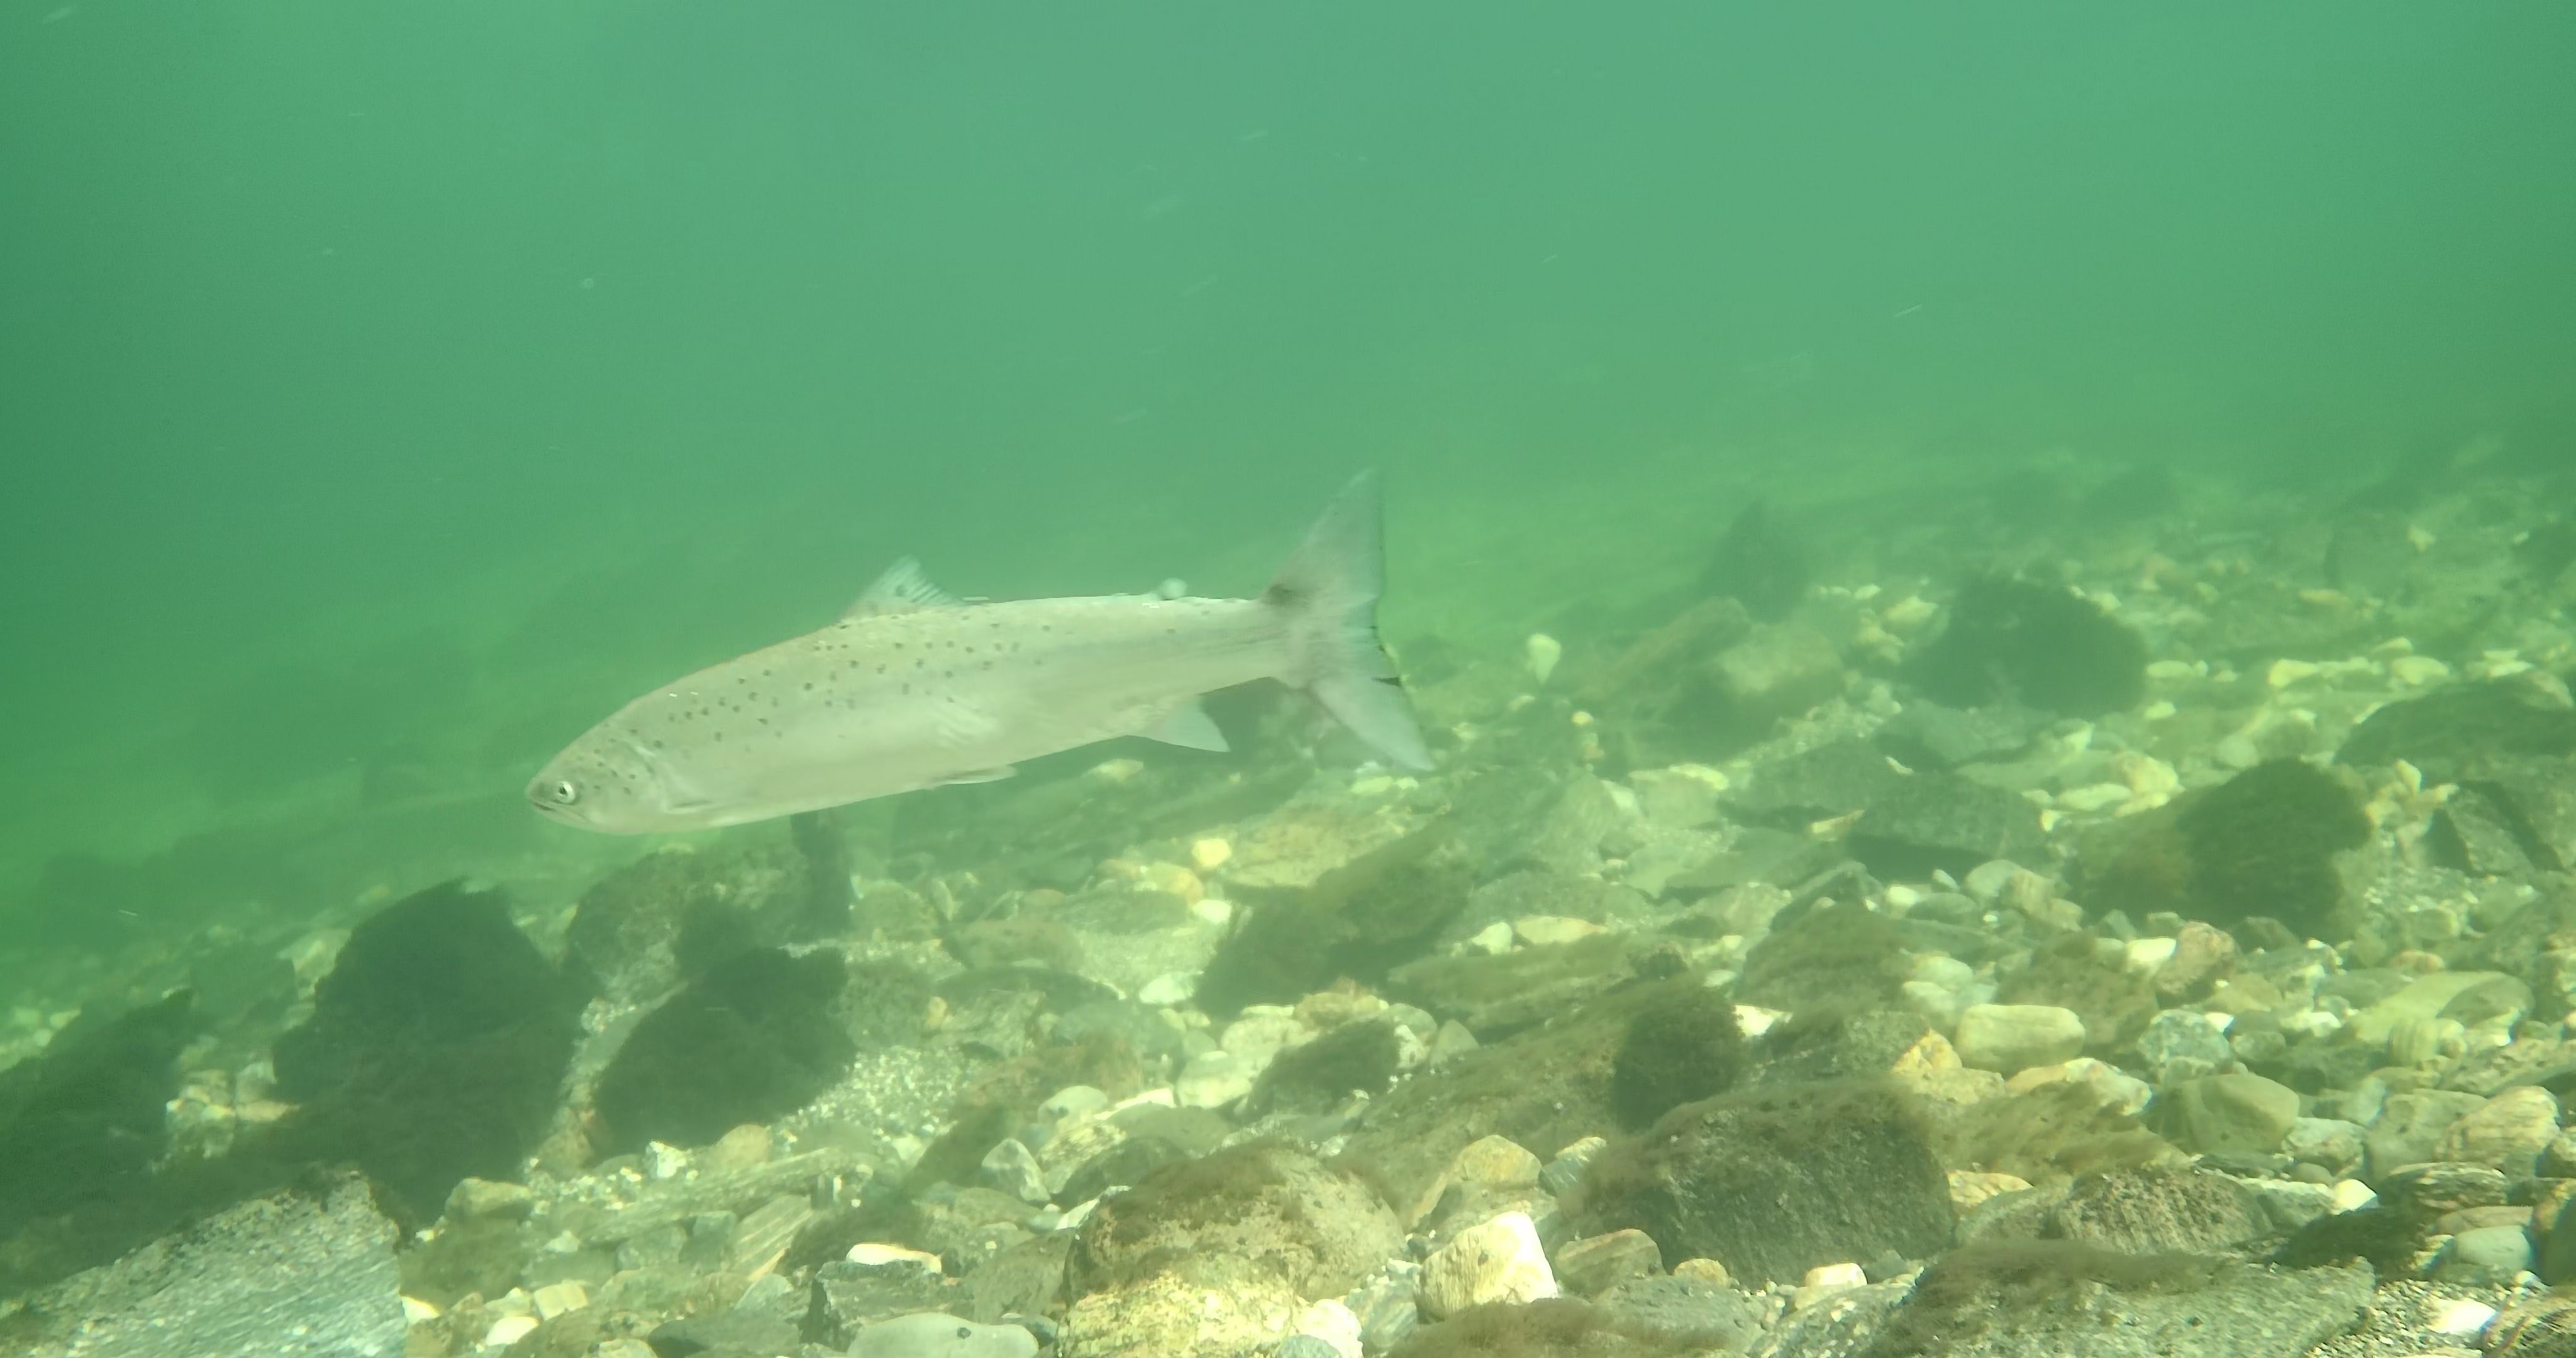salmon: (521, 463, 1440, 840)
